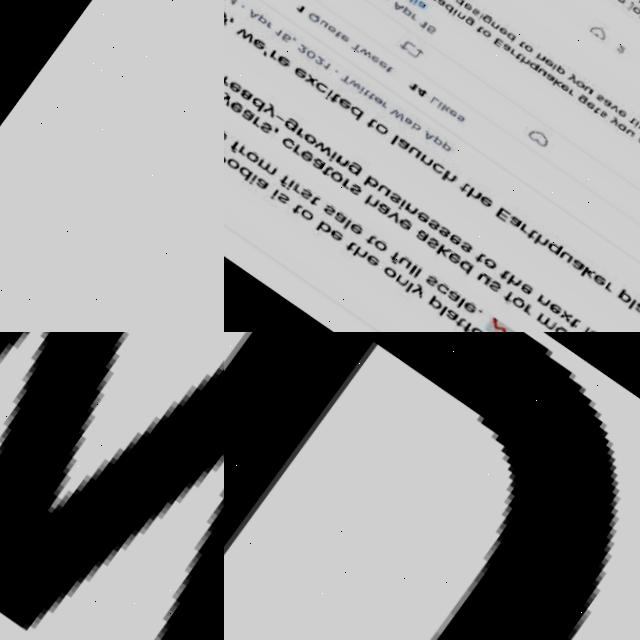0: (306, 48, 319, 59)
1: (295, 1, 308, 14), (419, 19, 430, 29), (410, 81, 420, 91), (276, 27, 284, 36), (324, 60, 332, 68)
2: (0, 0, 224, 332), (618, 45, 630, 55), (299, 43, 310, 53), (317, 55, 328, 65)
4: (417, 86, 432, 99)
5: (281, 30, 296, 43), (426, 23, 439, 36)
D: (224, 332, 640, 640)
W: (0, 332, 224, 640)
